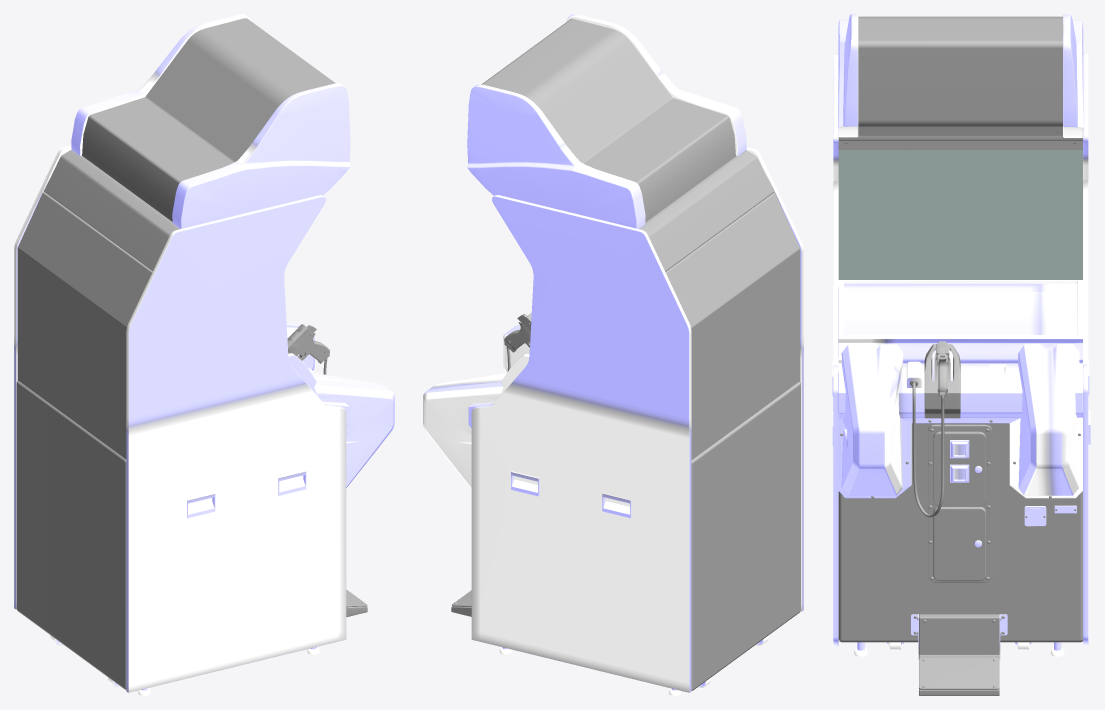
Rendered from SM_ShooterGame.fbx.
3 views of the same model, side by side, from view 1: azimuth 30°, elevation 25°; view 2: azimuth 150°, elevation 25°; view 3: azimuth 270°, elevation 25° (orthographic). The views are drawn at different scales.
Visible parts, largest first — view 1: SM_ShooterGame_LOD0; view 2: SM_ShooterGame_LOD0; view 3: SM_ShooterGame_LOD0.
Part boxes in pixels (x1,y1,x2,y2): SM_ShooterGame_LOD0: (14, 14, 394, 695); SM_ShooterGame_LOD0: (423, 14, 803, 695); SM_ShooterGame_LOD0: (832, 14, 1090, 695).
Bounding box in the file's own units: 110 × 79.44 × 214.
Materials: 6 (1 with a texture image).
